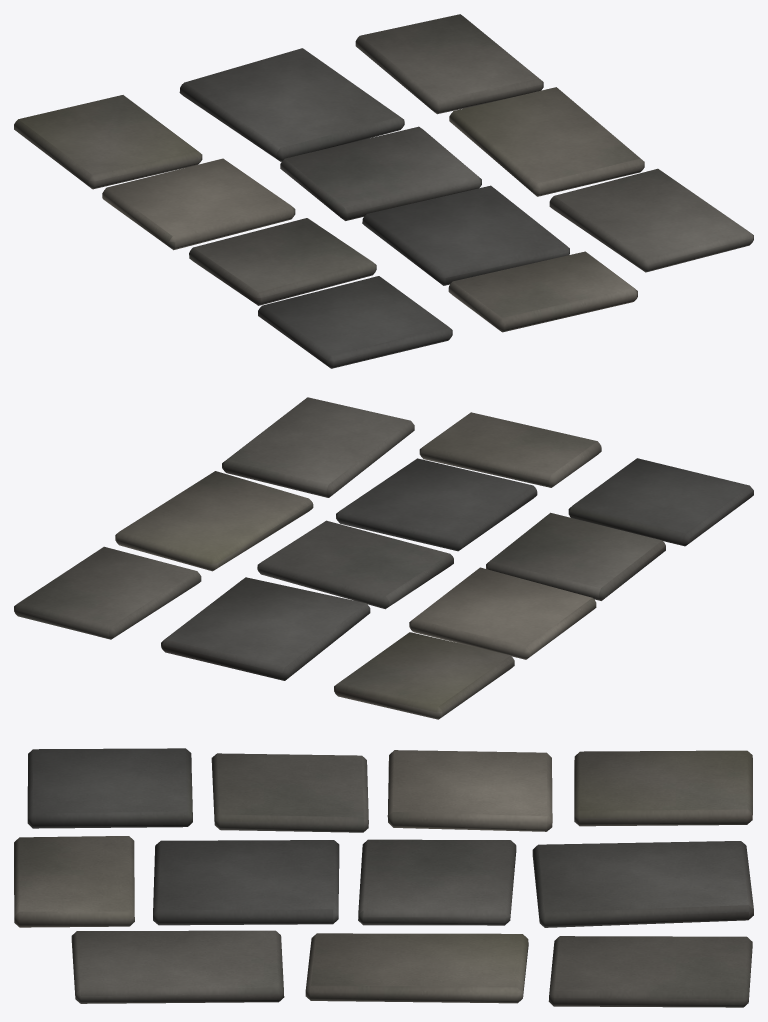
The model's file is paving_a.glb.
3 renders of one model, top to bottom at view 1: azimuth 30°, elevation 25°; view 2: azimuth 150°, elevation 25°; view 3: azimuth 270°, elevation 25°, orthographic. The views are drawn at different scales.
Parts seen in each view (by area): view 1: paving_a; view 2: paving_a; view 3: paving_a.
Boxes of the visible parts, <box> form: paving_a: <box>14,14,753,368</box>; paving_a: <box>14,397,753,719</box>; paving_a: <box>14,748,753,1007</box>.
Bounding box in the file's own units: 3.15 × 0.121 × 3.95.
1 material, 1 textured.
